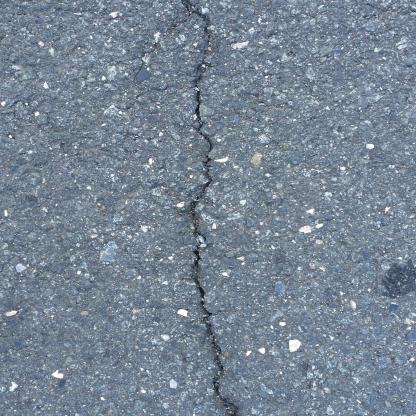Cracks: (170, 0, 265, 416)
